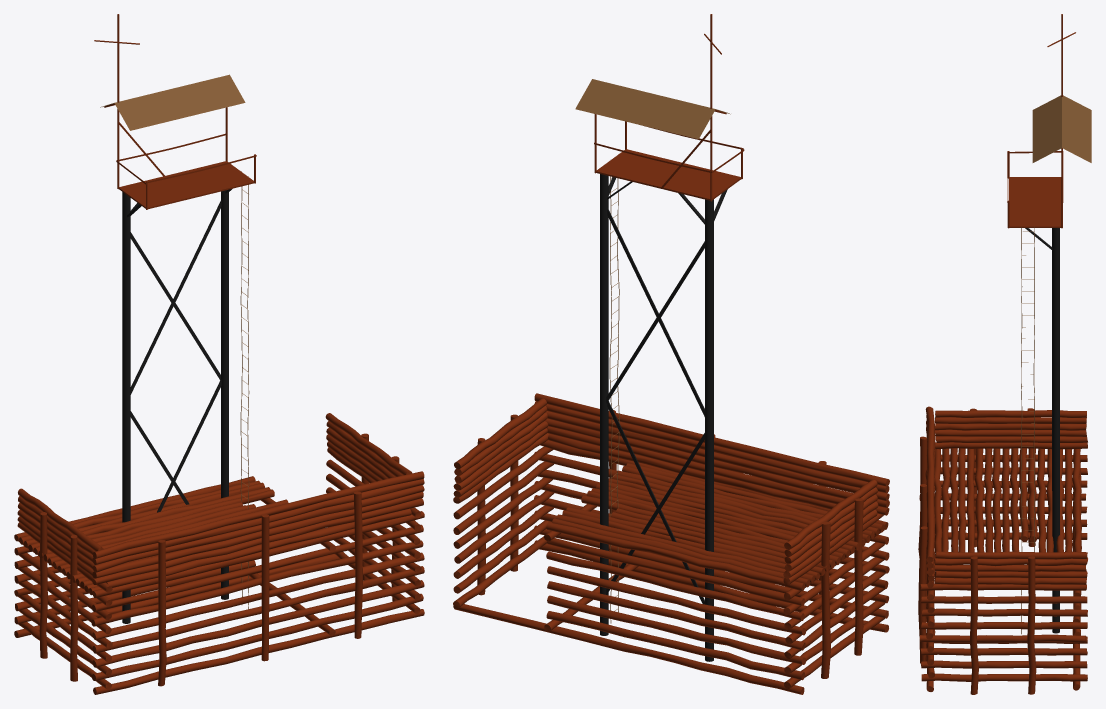
File: watch_tower_japan.fbx
3 views of the same model, side by side, from view 1: azimuth 30°, elevation 25°; view 2: azimuth 150°, elevation 25°; view 3: azimuth 270°, elevation 25° (orthographic). The views are drawn at different scales.
Parts seen in each view (by area): view 1: watch_tower_japan; view 2: watch_tower_japan; view 3: watch_tower_japan.
Boxes of the visible parts, x1=… form: watch_tower_japan: x1=14, y1=14, x2=424, y2=694; watch_tower_japan: x1=453, y1=14, x2=889, y2=694; watch_tower_japan: x1=918, y1=14, x2=1091, y2=694.
Size of the model in its own units: 396 by 699 by 192.
